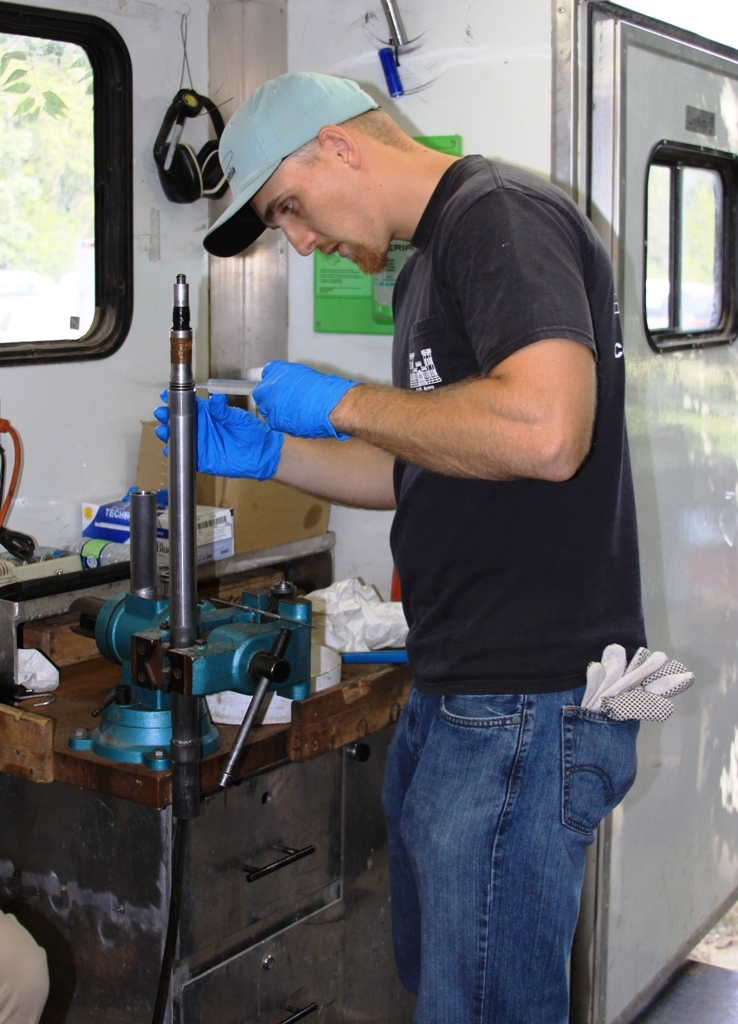Human_hand: (152, 391, 277, 480)
